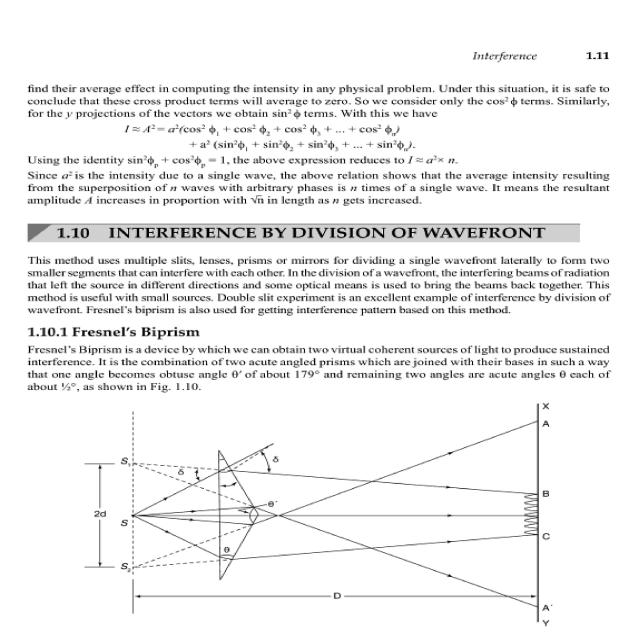diagram: (38, 400, 640, 640)
